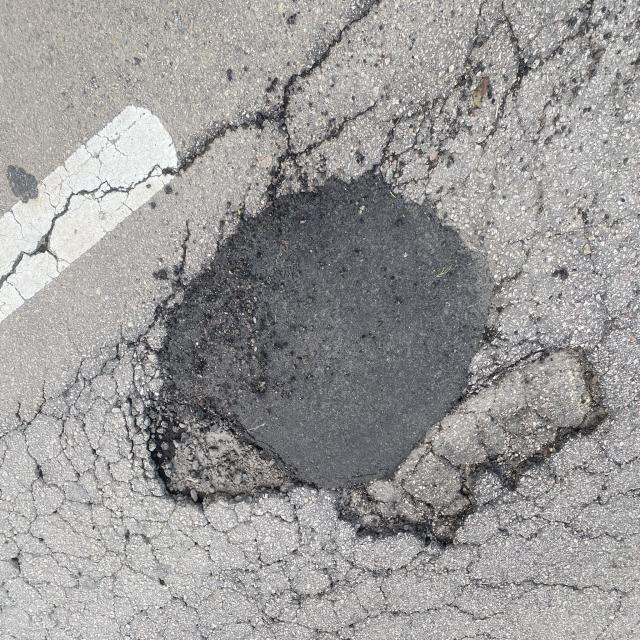pothole: (125, 142, 640, 571)
